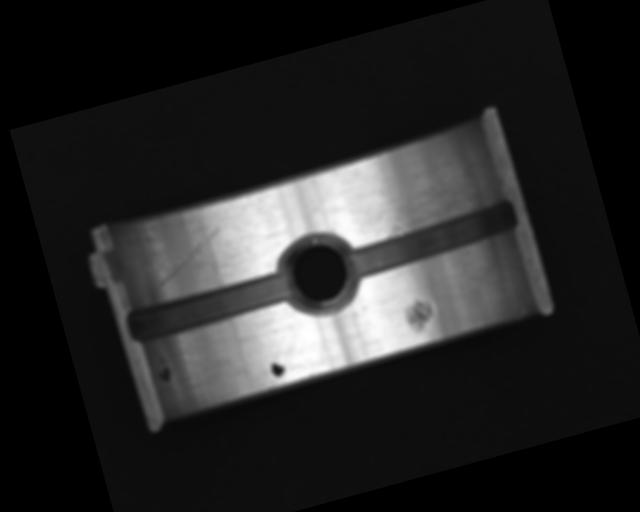blot: (153, 353, 174, 385), (267, 356, 287, 380)
bruise: (402, 296, 438, 334)
gap: (341, 196, 523, 281), (125, 267, 296, 345)
hole: (271, 225, 362, 323)
nick: (144, 222, 233, 289)
scratch: (325, 136, 499, 252)
